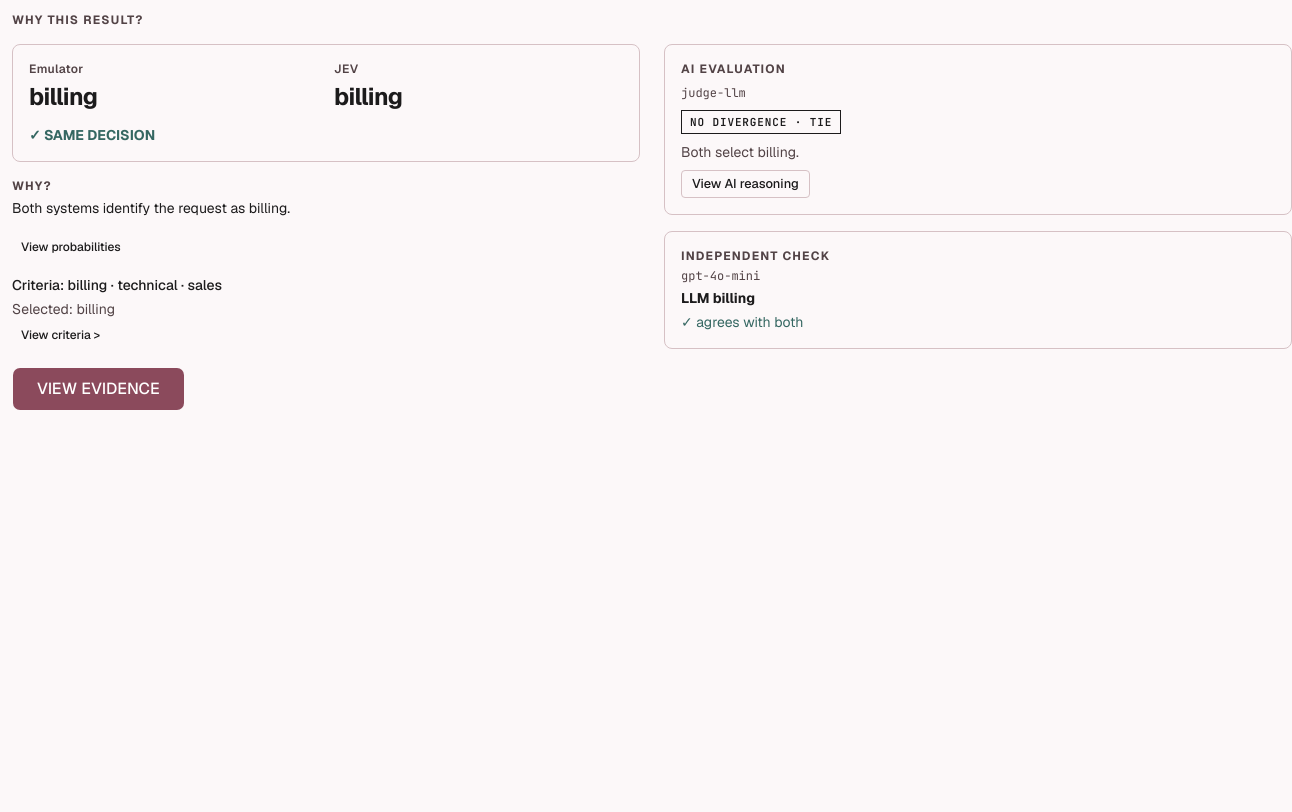
Scenario: WhyView — extreme labels hardening (P36/FB9) › renders the extreme AI reasoning question name with wrap-anywhere and a min-w-0 parent
Click the button "View AI reasoning" at (745, 184), box [681,170,810,198]
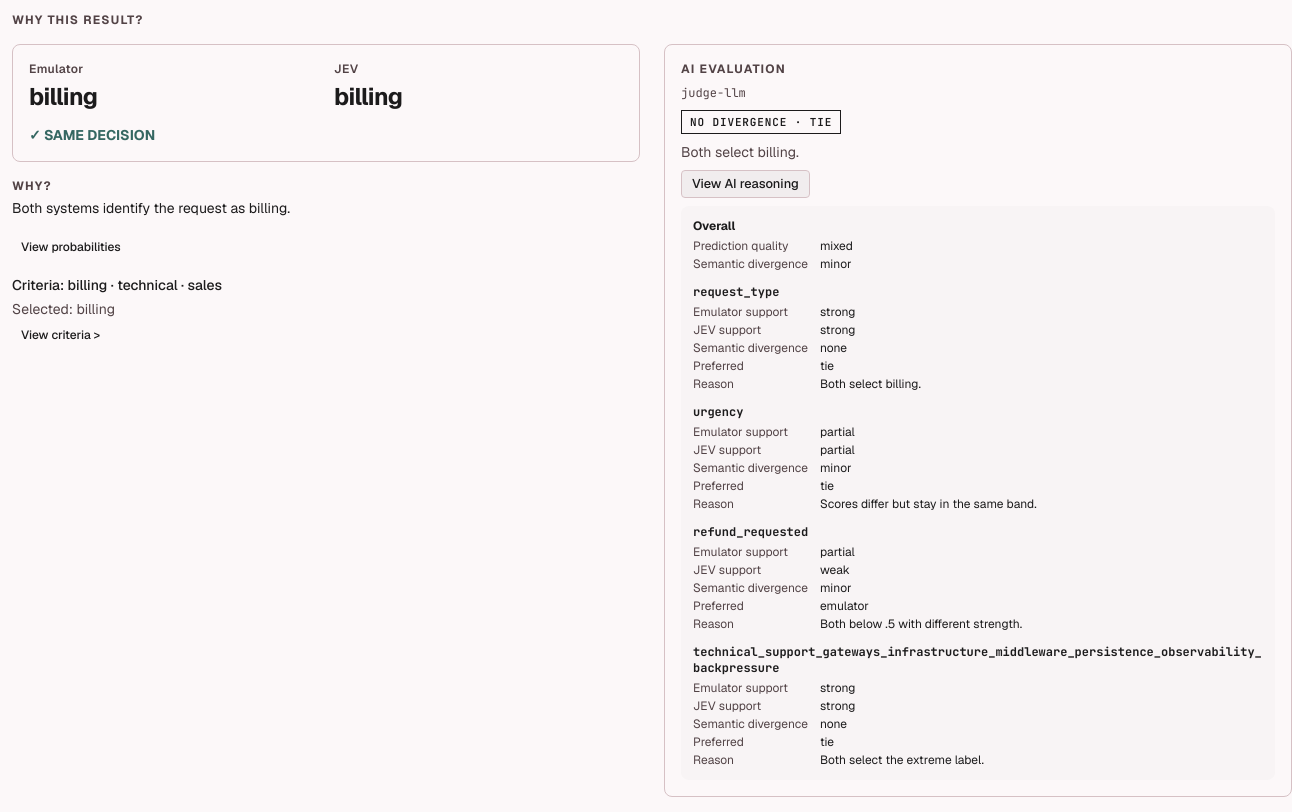
Check: the text "technical_support_gateways_infrastructure_middleware_persistence_observability_backpressure" is shown, box [693,644,1262,676]
